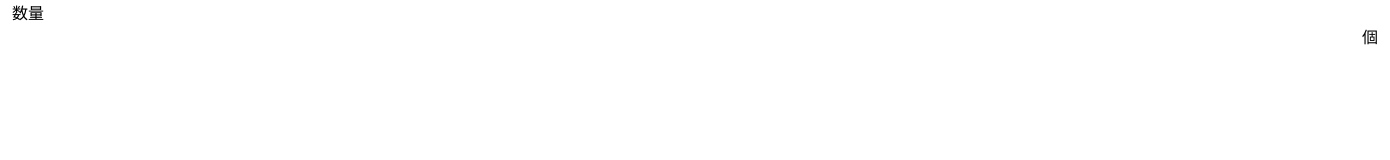
Test: NumberField › reports the number as typed and writes it grouped on leaving
The width and height of the screenshot is (1390, 160).
Type "１２３４" into the field labelled "数量" at (687, 36), box [12,27,1362,45]
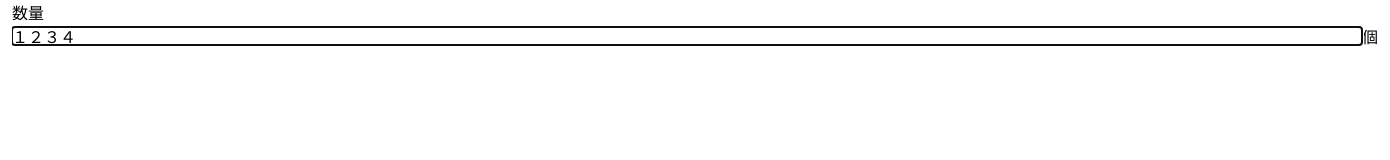
Press Tab
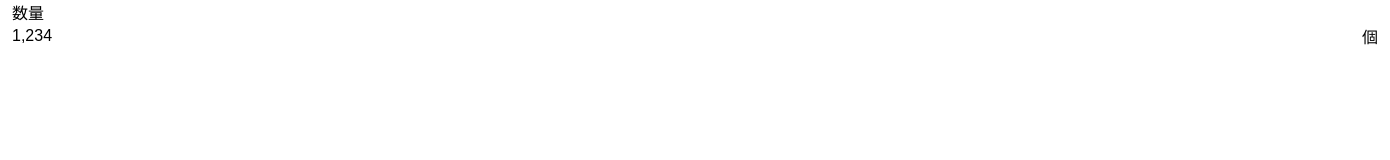
Check: the field labelled "数量" holds "1,234", box [12,27,1362,45]
